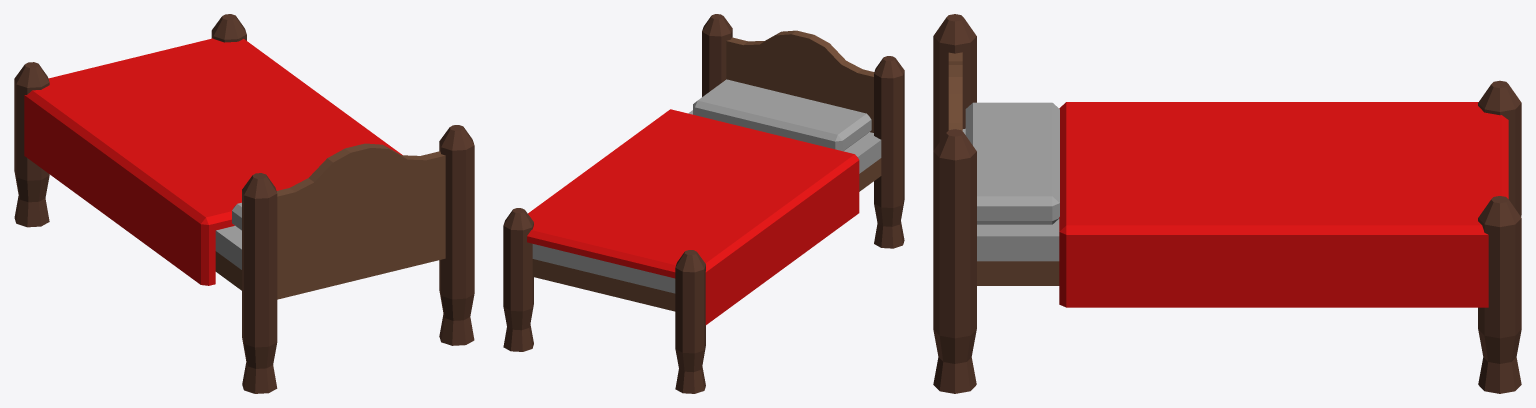
The model's file is Bed.fbx.
The picture shows the model from 3 angles, left to right: view 1: azimuth 30°, elevation 25°; view 2: azimuth 150°, elevation 25°; view 3: azimuth 270°, elevation 25°; orthographic projection. The views are drawn at different scales.
Parts seen in each view (by area): view 1: Bed; view 2: Bed; view 3: Bed.
Boxes of the visible parts, x1,y1,x2,y2 form: Bed: [14, 14, 474, 393]; Bed: [503, 14, 904, 393]; Bed: [933, 14, 1521, 393].
Bounding box in the file's own units: 116 × 104 × 216.
